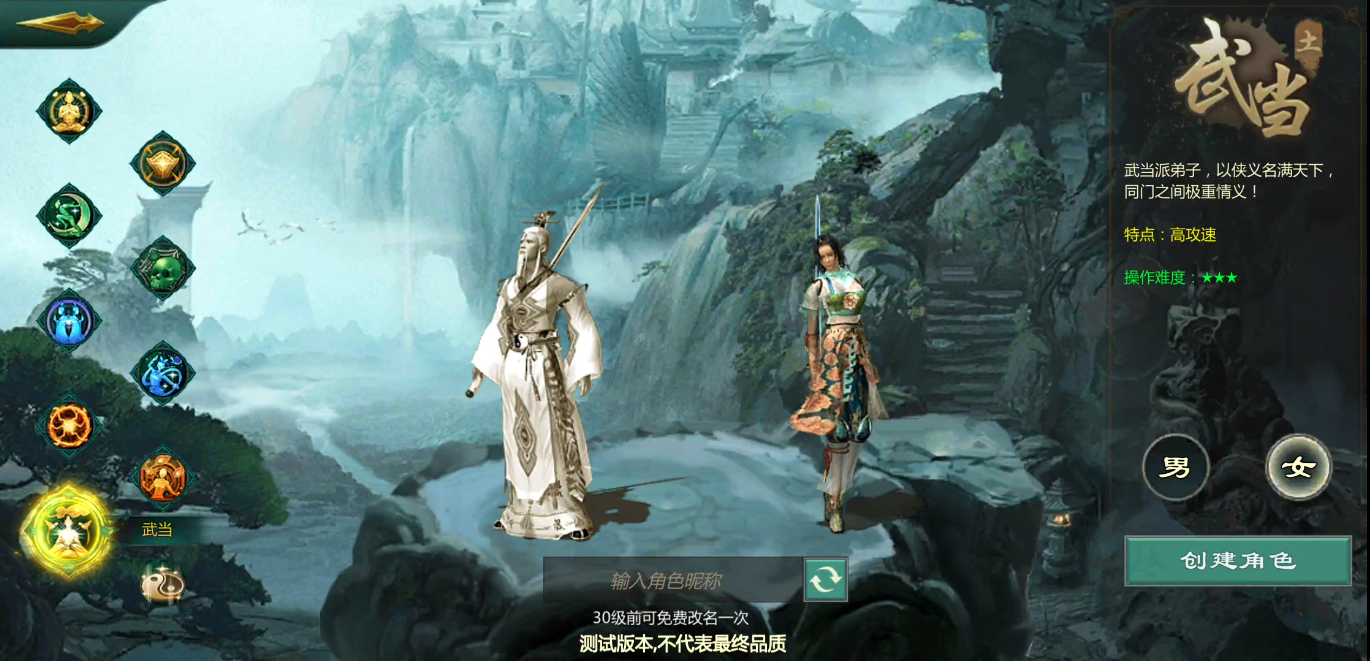cuiyan: (129, 338, 199, 409)
emei: (37, 288, 105, 356)
gaibang: (32, 391, 105, 464)
kunlun: (132, 556, 195, 619)
name: (807, 561, 847, 603)
shaolin: (37, 73, 105, 149)
tangmen: (37, 181, 105, 258)
tianren: (130, 446, 200, 518)
tianwang: (129, 126, 199, 201)
wudu: (130, 231, 199, 303)
